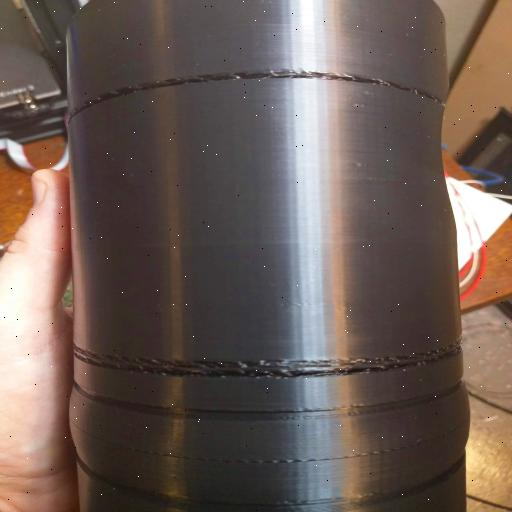cracks: (60, 334, 468, 424), (70, 54, 466, 138)
